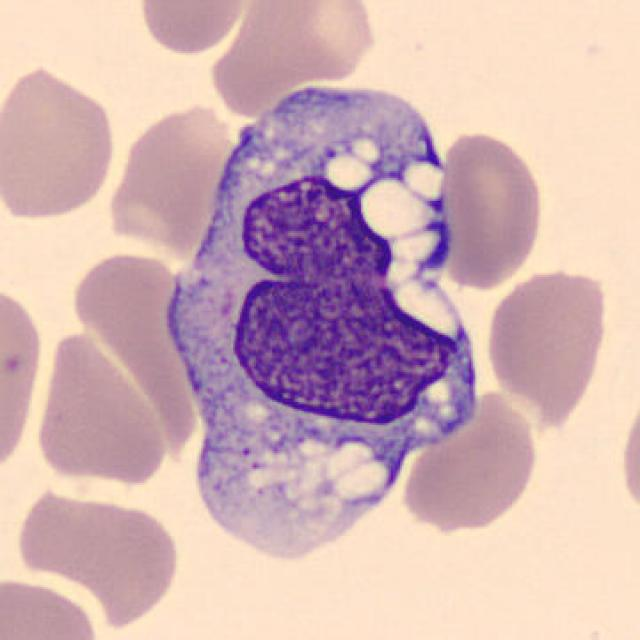Monocyte: (156, 74, 494, 552)
RBC: (64, 255, 226, 453), (13, 481, 183, 633), (28, 324, 176, 492), (108, 99, 249, 260), (397, 386, 542, 536), (482, 263, 612, 430), (210, 0, 386, 114), (0, 60, 121, 224), (434, 127, 549, 293), (0, 277, 46, 481), (0, 571, 107, 640), (134, 0, 252, 58), (615, 377, 640, 531)
